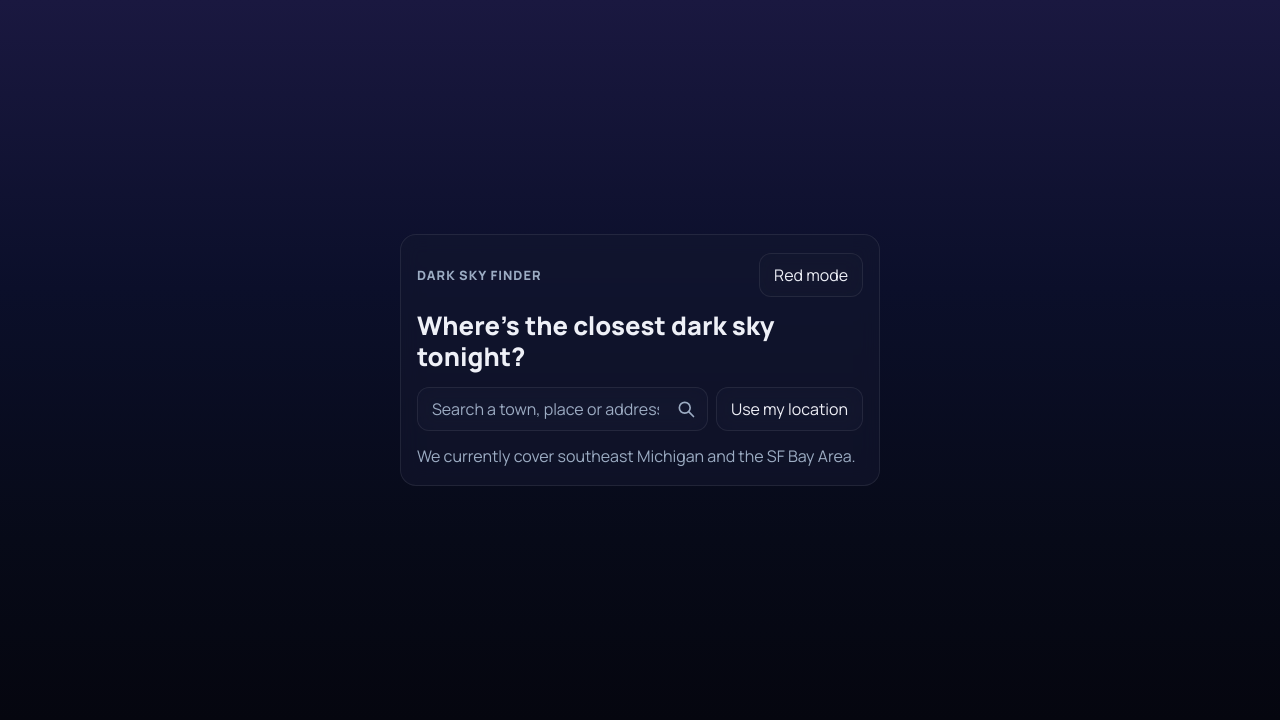
it: App flow › welcome locate outside coverage shows coverage message and stays on welcome
Click the button "Use my location" at (789, 409), box [716,387,863,431]
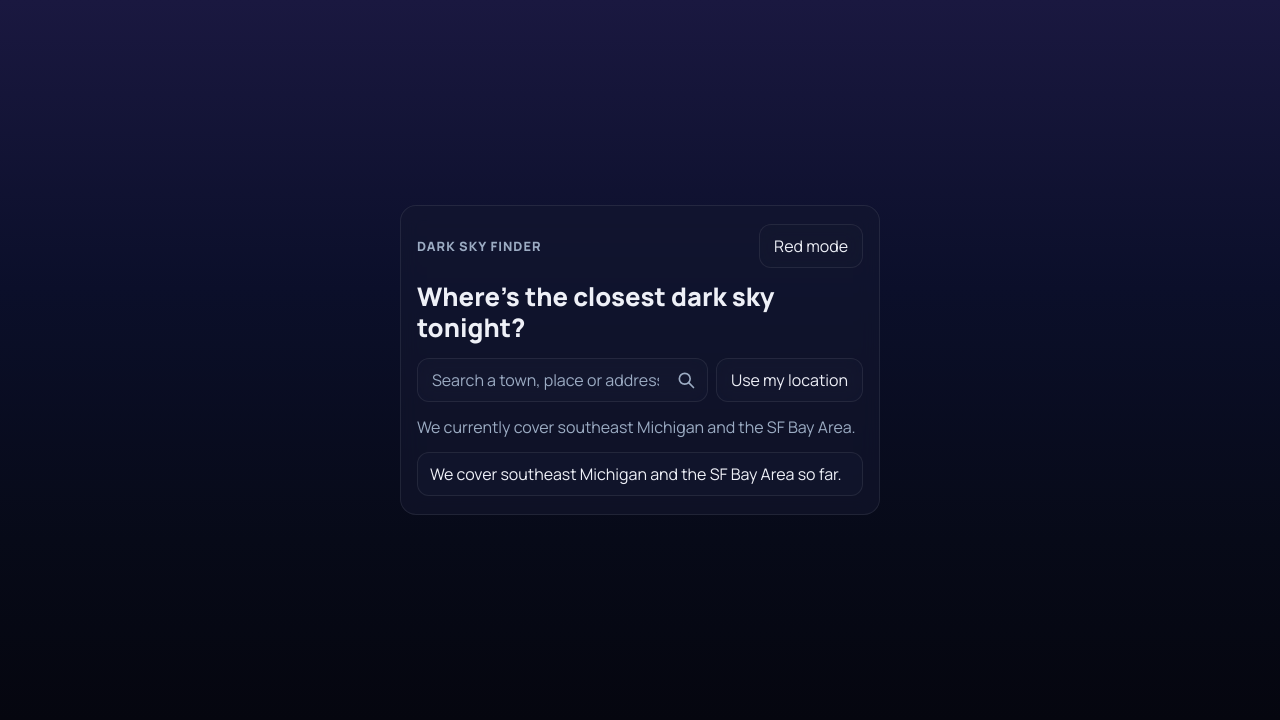
Expected: the heading "Where's the closest dark sky tonight?" is shown, [417,279,774,345]
Now the text "We cover southeast Michigan and the SF Bay Area so far." is shown, box [417,452,863,496]
